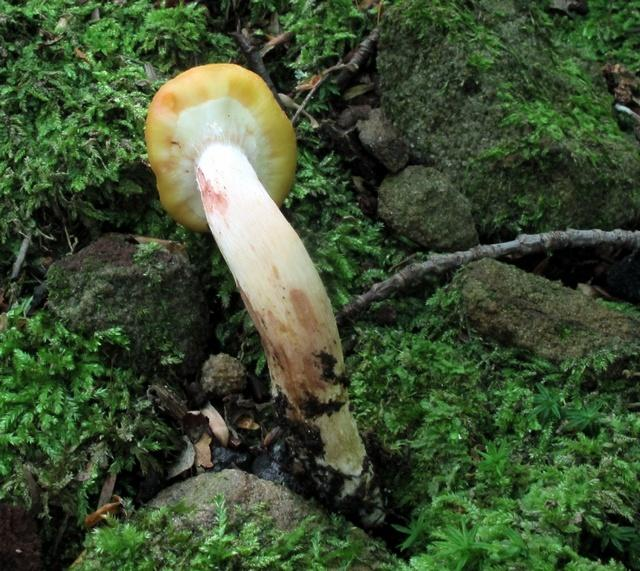edible_mushroom: (143, 60, 387, 527)
